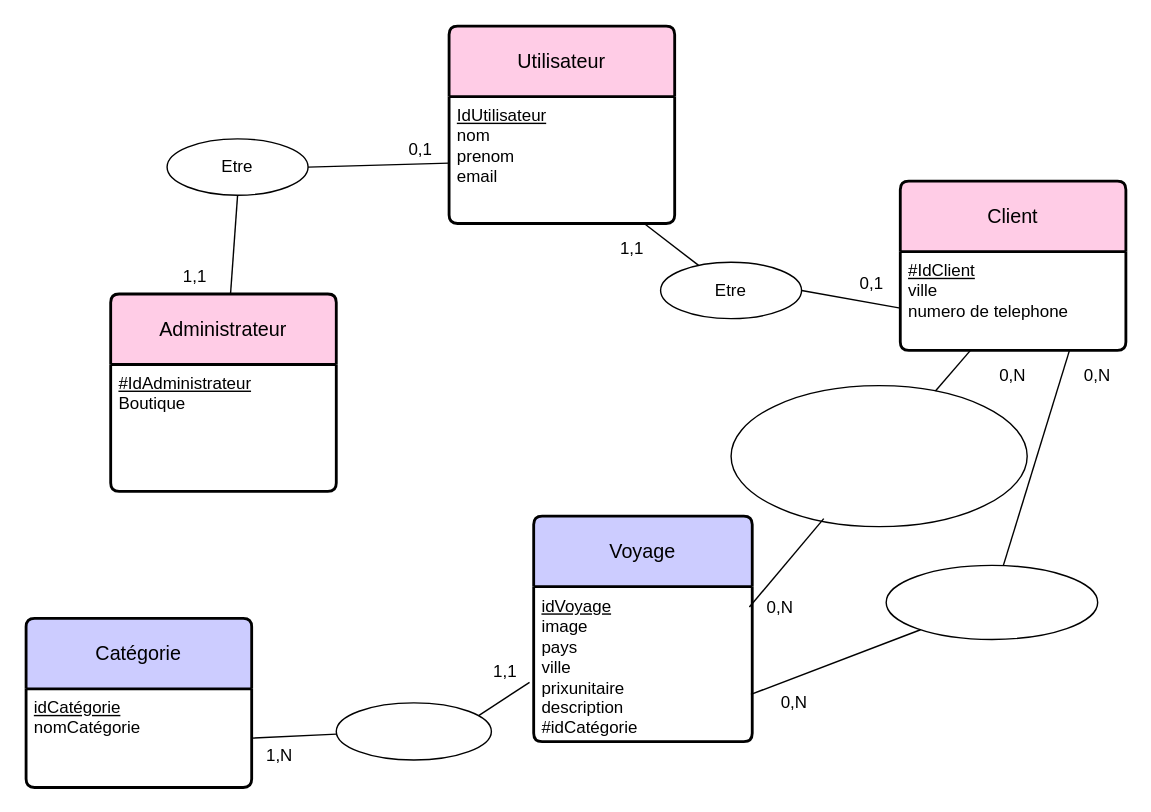
This 1151x812 diagram has some shape labels left out. Each missing label, with the centre of its shape:
Aimer DateDeLike: (x=991, y=601)
Appartenir: (x=413, y=730)
Réserver prixTotal, nbPersonnes, dateD,dateF, statutRéservation: (x=878, y=455)
